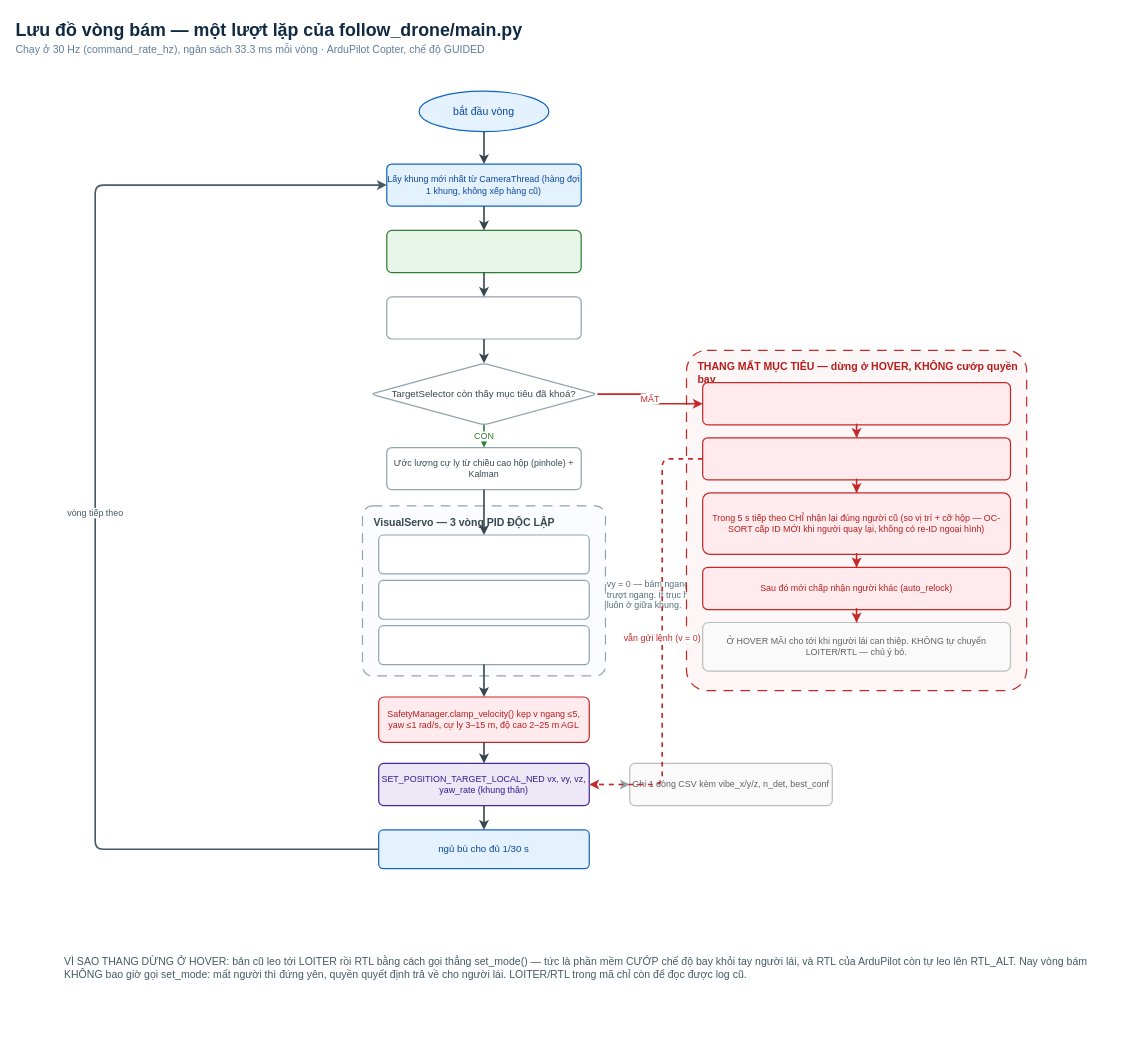
This 1129x1060 diagram has some shape labels left out. The centre of each missing label's shape, as x and y in pixels:
"COAST · 0 – 3 s bay tiếp theo dự đoán Kalman của track cũ" goes at [856,403].
"ForwardPID: sai số cự ly → vx Kp .5 Ki .05 Kd .1 · v ≤ 3 m/s" goes at [484,554].
"HOVER · sau 3 s gửi vận tốc 0 = đứng yên tại chỗ" goes at [856,458].
"OC-SORT cập nhật track max_age 45 · min_hits 3" goes at [483,317].
"PersonDetectorHailo.infer() Hailo-8L · 17.6 ms" goes at [483,251].
"VerticalPID: sai số độ cao AGL → vz Kp .8 Ki .1 Kd .2 · v ≤ 2 m/s" goes at [484,645].
"YawPID: lệch tâm hộp theo x → yaw_rate Kp 2.0 Ki 0 Kd .3 · ≤ 1.5 rad/s" goes at [484,599].
